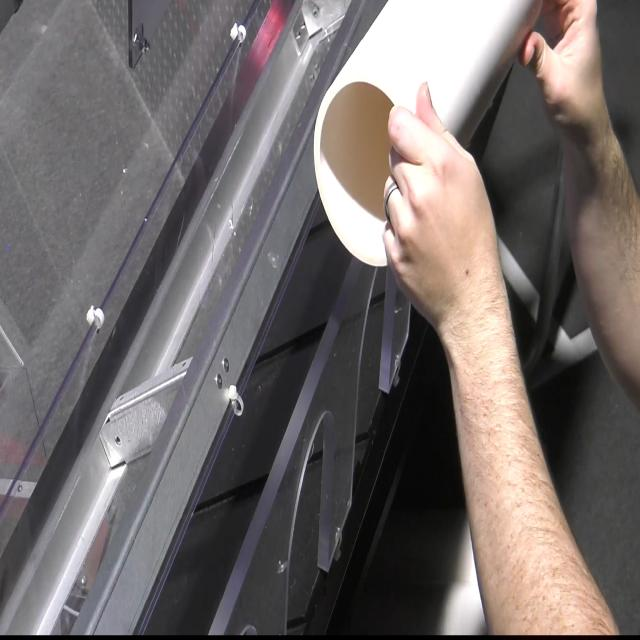Coral: (312, 0, 543, 269)
